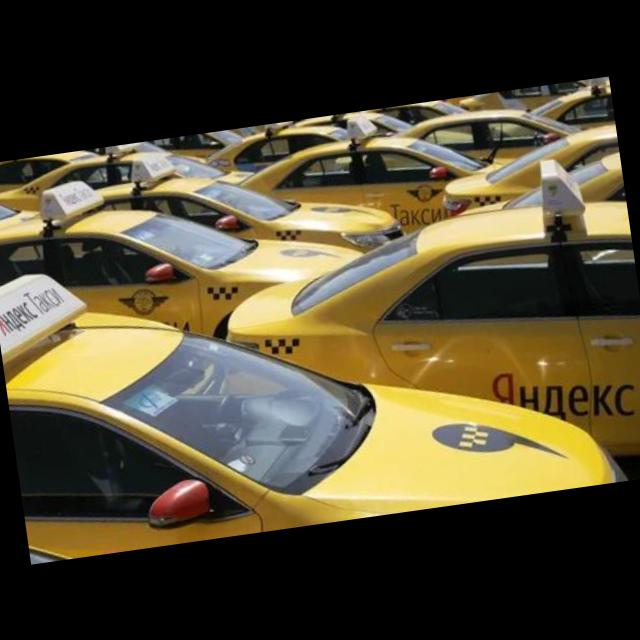taxi: (1, 194, 632, 565), (206, 150, 640, 512)
